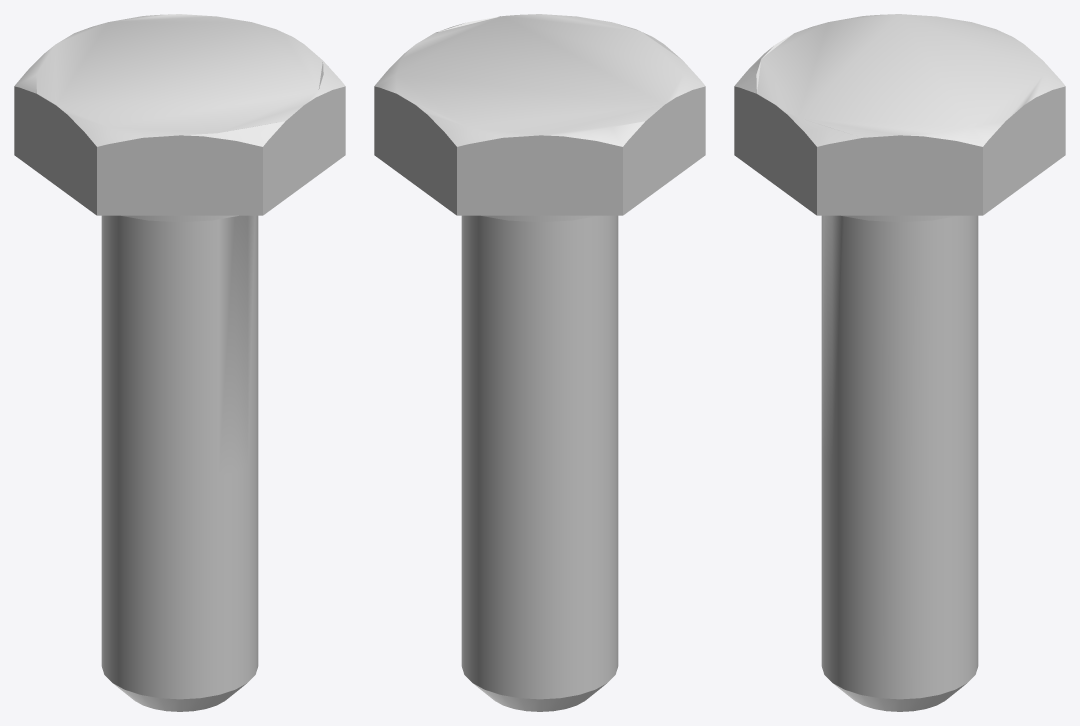
Rendered from SM_Vint.fbx.
3 renders of one model, left to right at view 1: azimuth 30°, elevation 25°; view 2: azimuth 150°, elevation 25°; view 3: azimuth 270°, elevation 25°, orthographic.
Parts seen in each view (by area): view 1: M3x11_vint_copy; view 2: M3x11_vint_copy; view 3: M3x11_vint_copy.
Boxes of the visible parts, bbox=[...] form: M3x11_vint_copy: bbox=[14, 14, 345, 711]; M3x11_vint_copy: bbox=[374, 14, 705, 711]; M3x11_vint_copy: bbox=[734, 14, 1065, 711].
Size of the model in its own units: 0.55 by 1.3 by 0.6351.
Materials: 1 (1 with a texture image).
